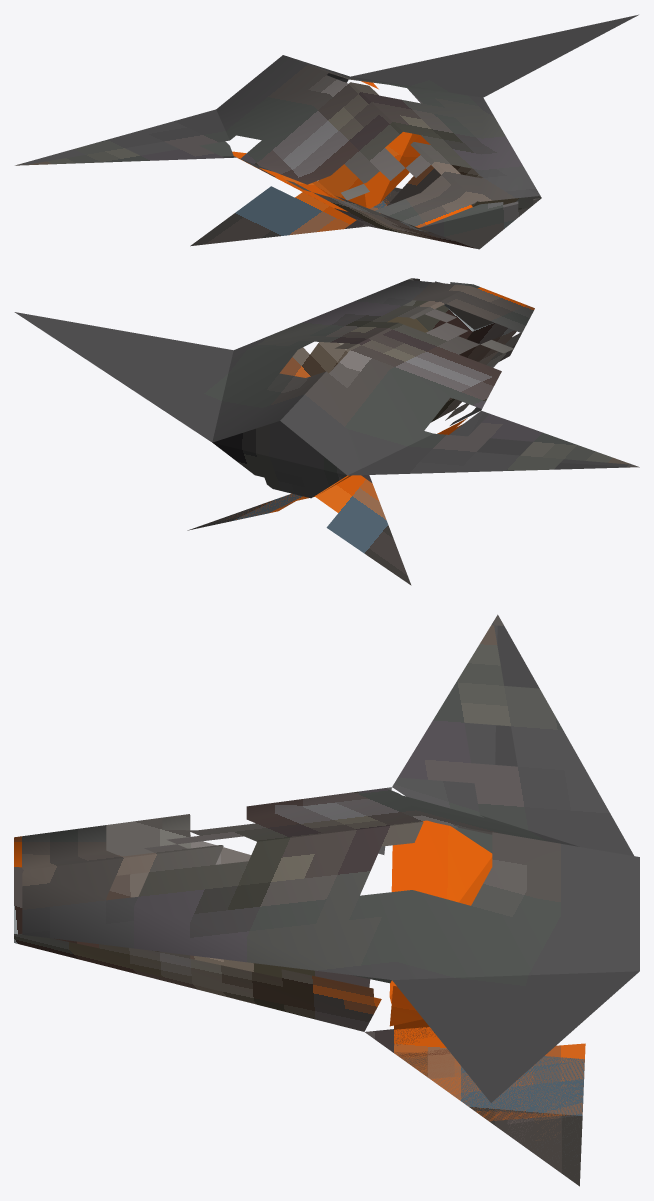
Rendered from LOD3-UVFlip.obj.
3 views of the same model, one above another, from view 1: azimuth 30°, elevation 25°; view 2: azimuth 150°, elevation 25°; view 3: azimuth 270°, elevation 25° (orthographic). The views are drawn at different scales.
Parts seen in each view (by area): view 1: Hgn_Scout_LOD2_texture; view 2: Hgn_Scout_LOD2_texture; view 3: Hgn_Scout_LOD2_texture.
Boxes of the visible parts, <box> form: Hgn_Scout_LOD2_texture: <box>15,14,638,249</box>; Hgn_Scout_LOD2_texture: <box>14,278,639,585</box>; Hgn_Scout_LOD2_texture: <box>14,614,639,1186</box>.
Size of the model in its own units: 23.78 by 6.29 by 12.85.
